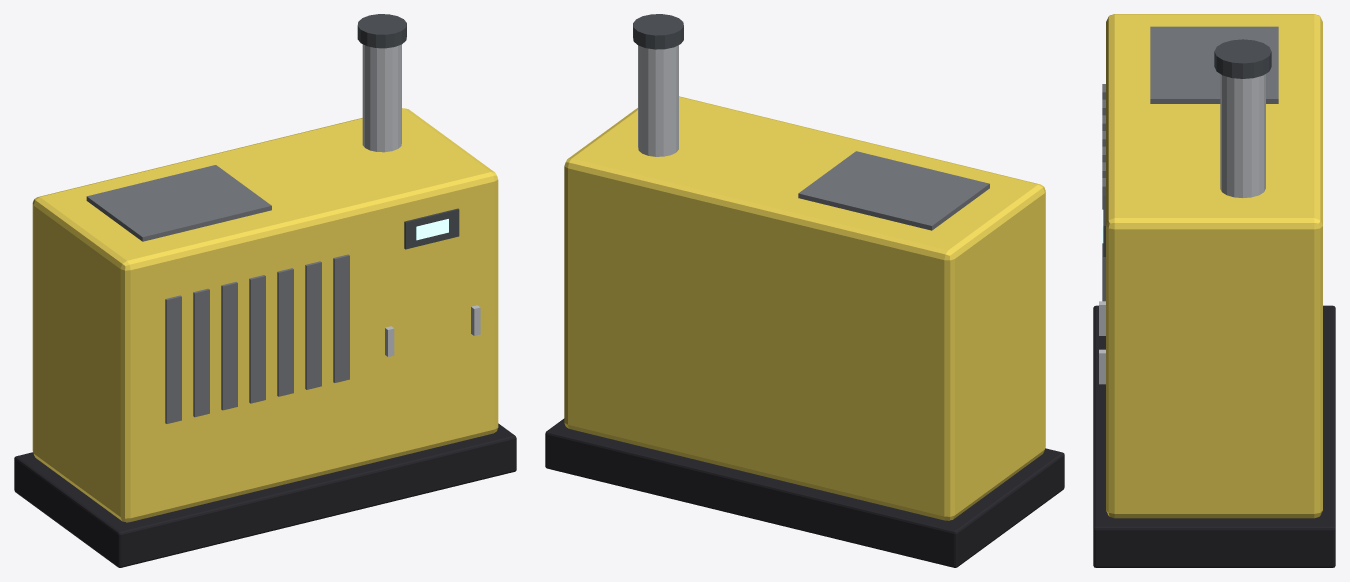
Rendered from gen.fbx.
3 views of the same model, side by side, from view 1: azimuth 30°, elevation 25°; view 2: azimuth 150°, elevation 25°; view 3: azimuth 270°, elevation 25° (orthographic). The views are drawn at different scales.
Visible parts, largest first — view 1: gen; view 2: gen; view 3: gen.
Boxes of the visible parts, x1,y1,x2,y2 form: gen: (14,14,516,567); gen: (545,14,1064,567); gen: (1093,14,1335,567).
Size of the model in its own units: 1.85 by 1.85 by 0.85.
